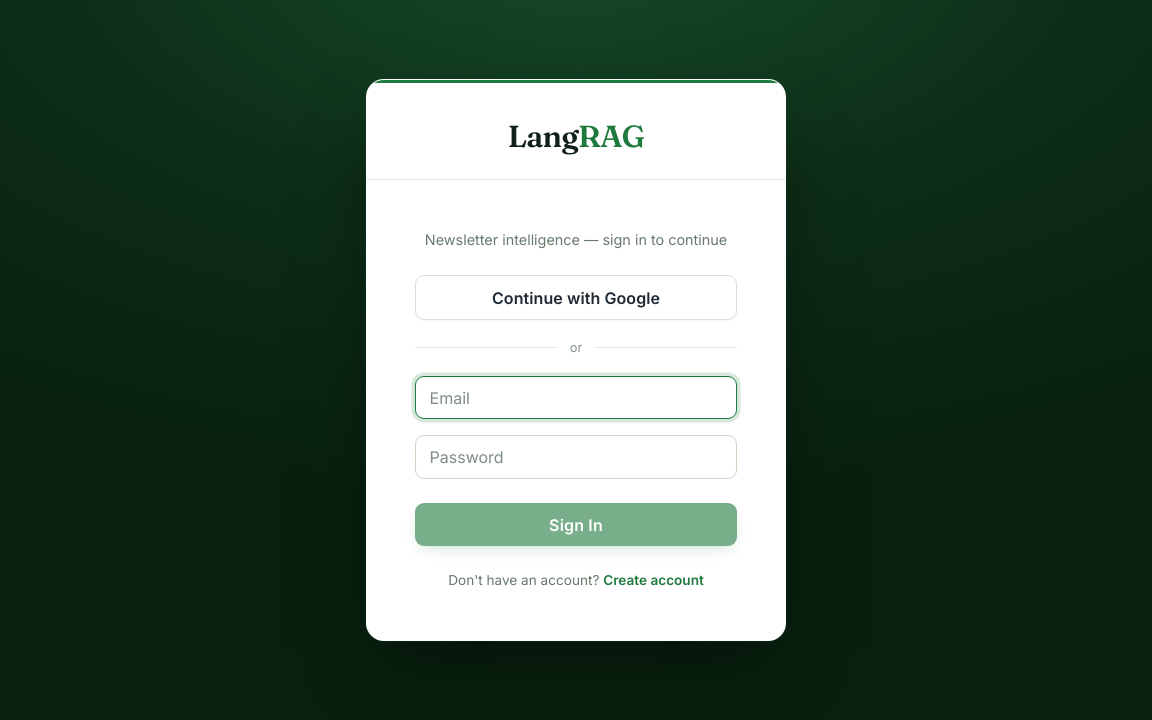
Test: toggles between Sign In and Create account
The width and height of the screenshot is (1152, 720).
Click the button with test id "toggle-to-signup" at (654, 581), box [603, 570, 704, 592]
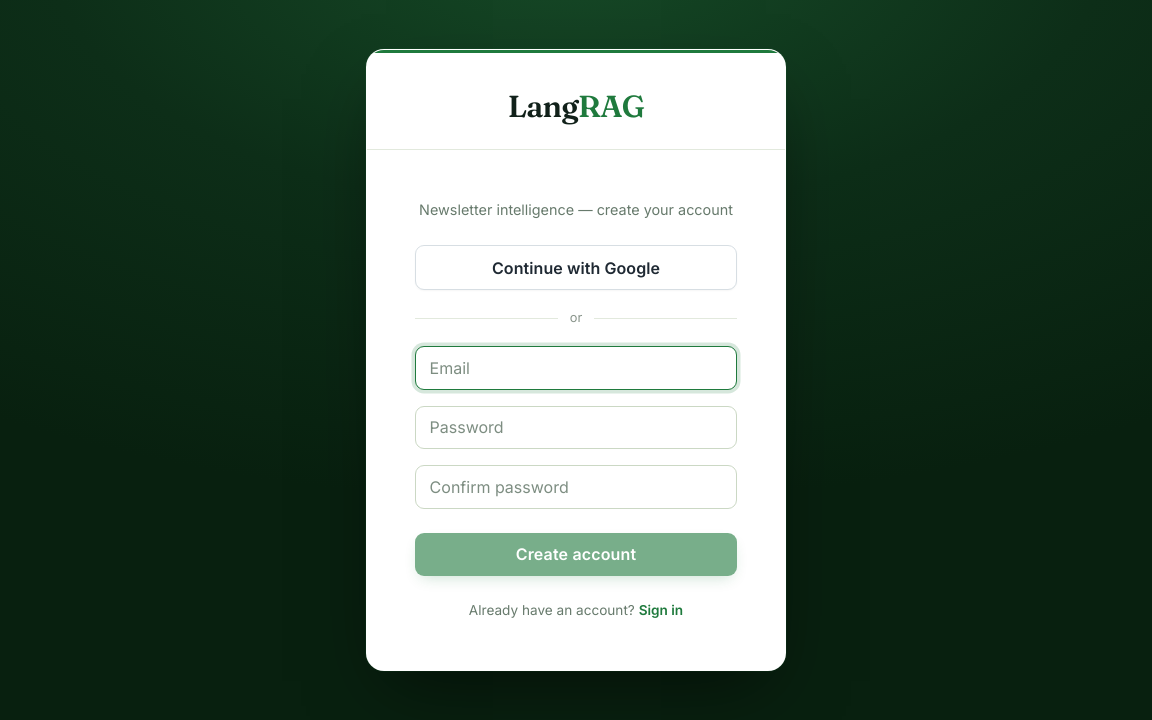
Expected: the button with test id "signup-submit" is shown, [415, 533, 737, 576]
Expected: the password field with test id "signup-confirm" is shown, [415, 465, 737, 509]
Click the button with test id "toggle-to-signin" at (661, 611), box [639, 600, 683, 622]
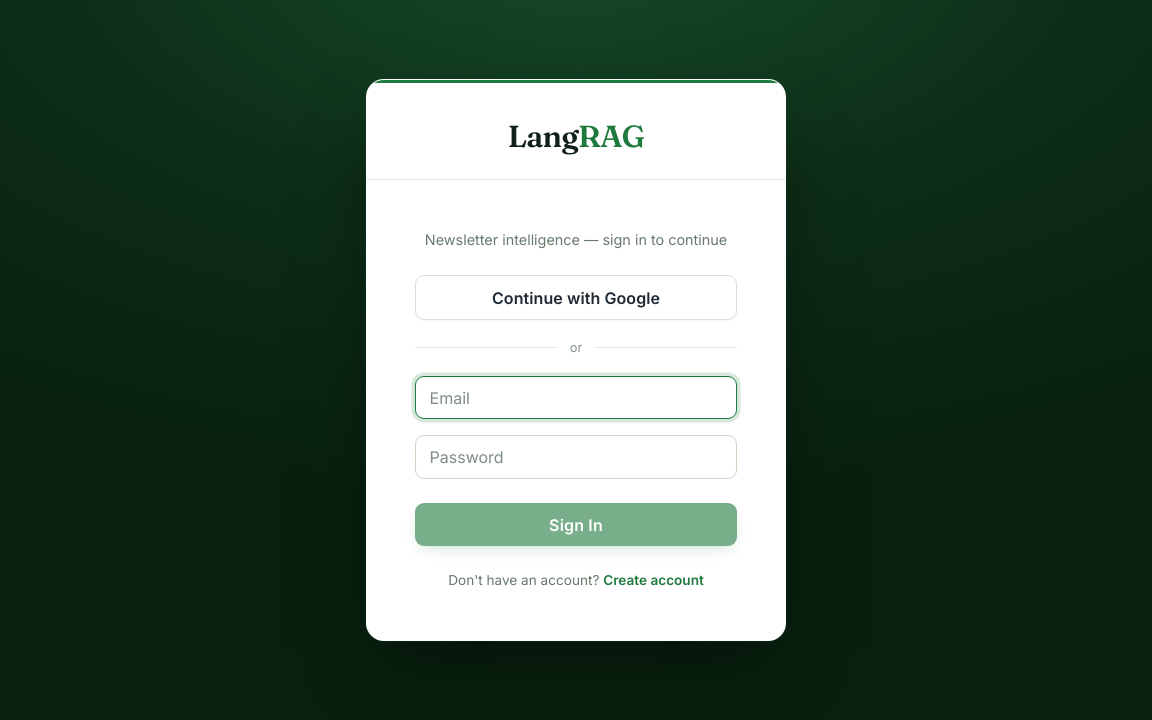
Expected: the password field with test id "signup-confirm" is gone
